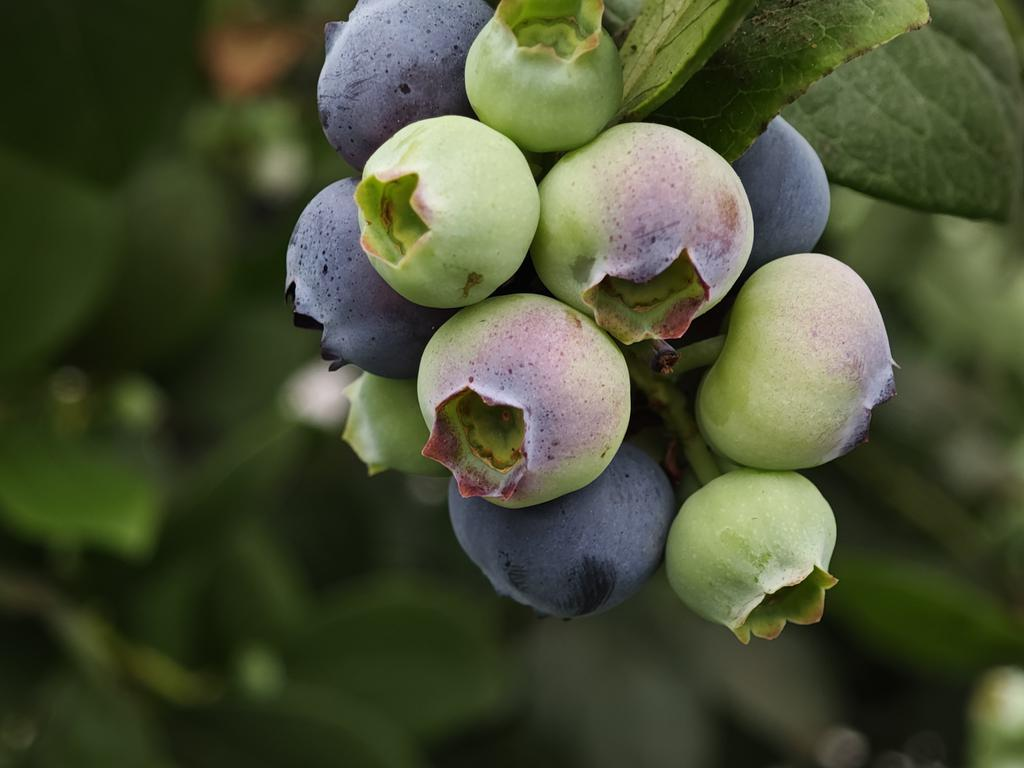RipeBlueBerry: (443, 455, 675, 627)
UnripeBlueBerry: (540, 118, 757, 342), (415, 289, 632, 511), (702, 248, 901, 474), (352, 110, 543, 312)
